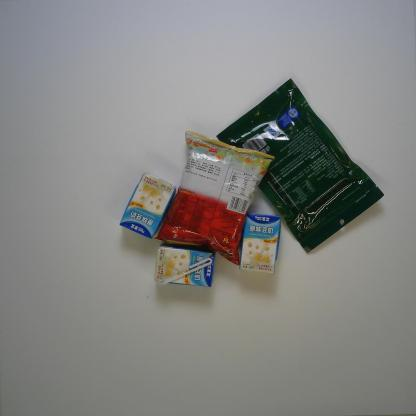Dried Food: (214, 79, 384, 254)
Milk: (120, 172, 176, 239), (154, 245, 216, 288), (240, 212, 282, 275)
Puffed Food: (154, 130, 276, 267)
